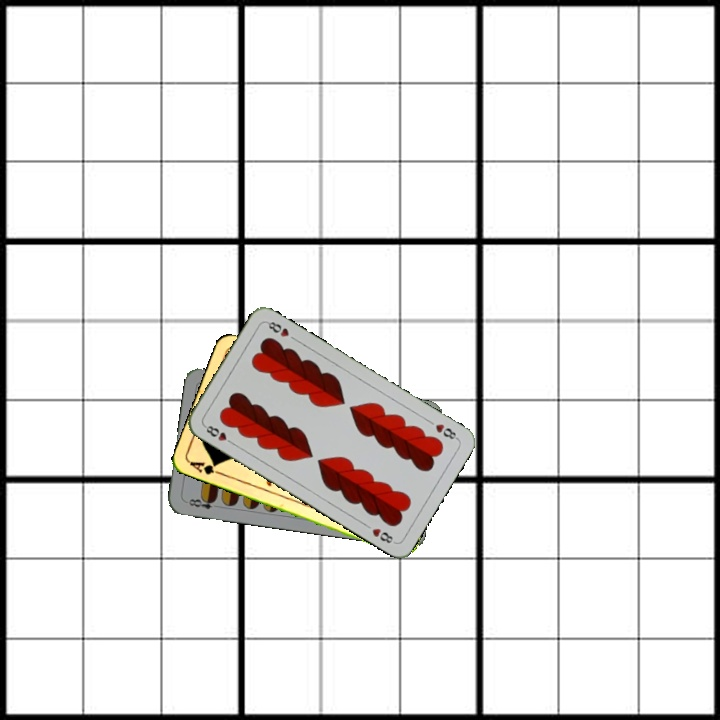E8: (182, 493, 219, 512)
GA: (186, 457, 226, 478)
H8: (200, 421, 237, 447), (431, 419, 461, 442)
